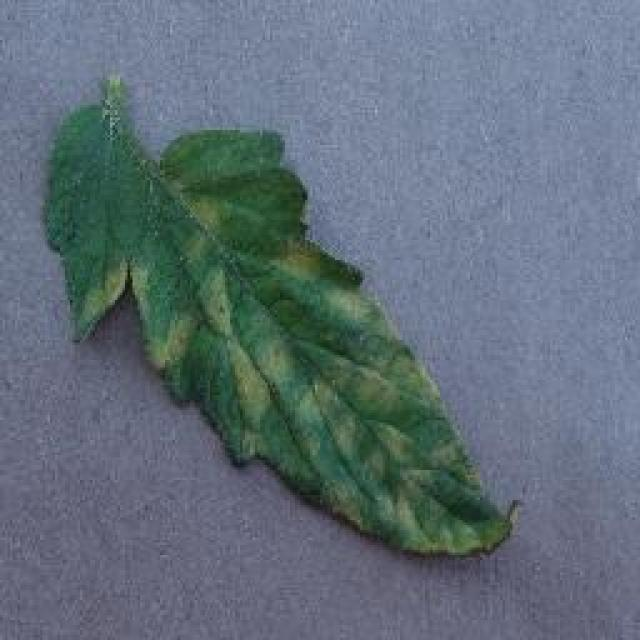Tomato___Leaf_Mold: (45, 78, 520, 560)
